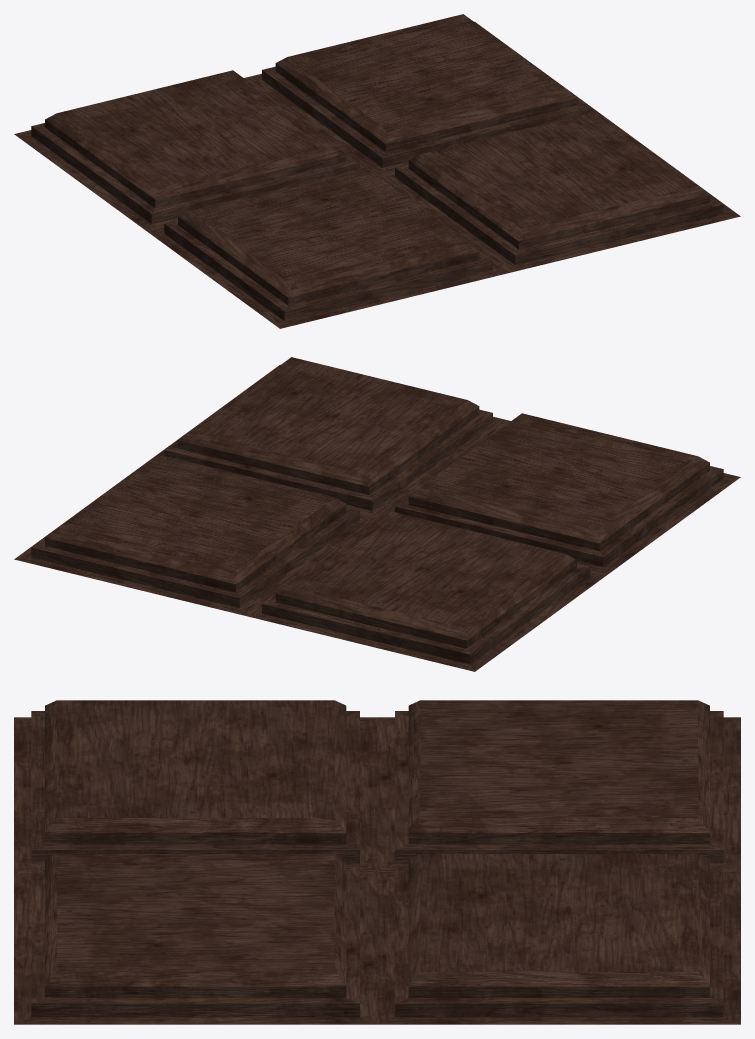
File: SM_Ceiling.fbx
3 renders of one model, top to bottom at view 1: azimuth 30°, elevation 25°; view 2: azimuth 150°, elevation 25°; view 3: azimuth 270°, elevation 25°, orthographic. The views are drawn at different scales.
Visible parts, largest first — view 1: SM_Ceiling; view 2: SM_Ceiling; view 3: SM_Ceiling.
Boxes of the visible parts, x1,y1,x2,y2 form: SM_Ceiling: (14, 14, 740, 328); SM_Ceiling: (14, 357, 740, 671); SM_Ceiling: (14, 700, 740, 1024).
Size of the model in its own units: 400 by 21.3 by 400.
